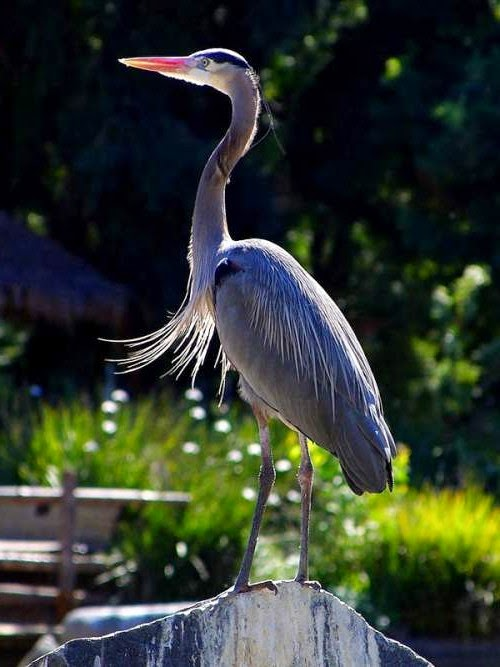heron: (107, 45, 401, 596)
